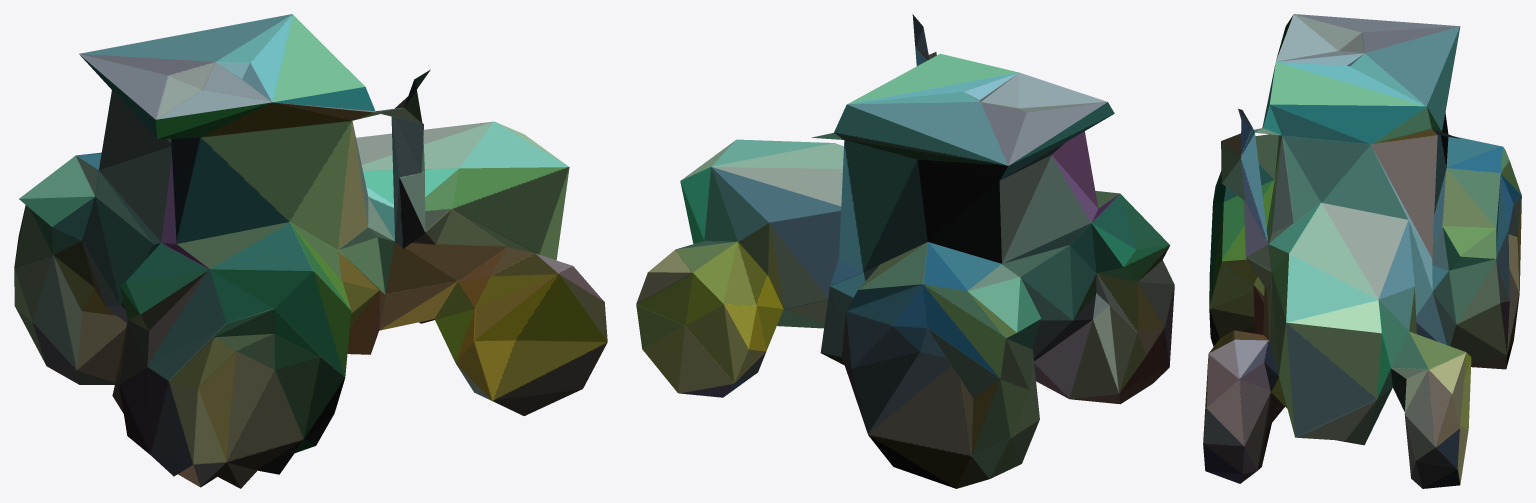
File: tractor.fbx
3 views of the same model, side by side, from view 1: azimuth 30°, elevation 25°; view 2: azimuth 150°, elevation 25°; view 3: azimuth 270°, elevation 25° (orthographic). The views are drawn at different scales.
Parts seen in each view (by area): view 1: Mesh_0; view 2: Mesh_0; view 3: Mesh_0.
Part boxes in pixels (x1,y1,x2,y2): Mesh_0: (14, 14, 607, 488); Mesh_0: (636, 14, 1174, 488); Mesh_0: (1203, 14, 1521, 488).
Bounding box in the file's own units: 119 × 85.37 × 75.37.
1 material, 1 textured.
